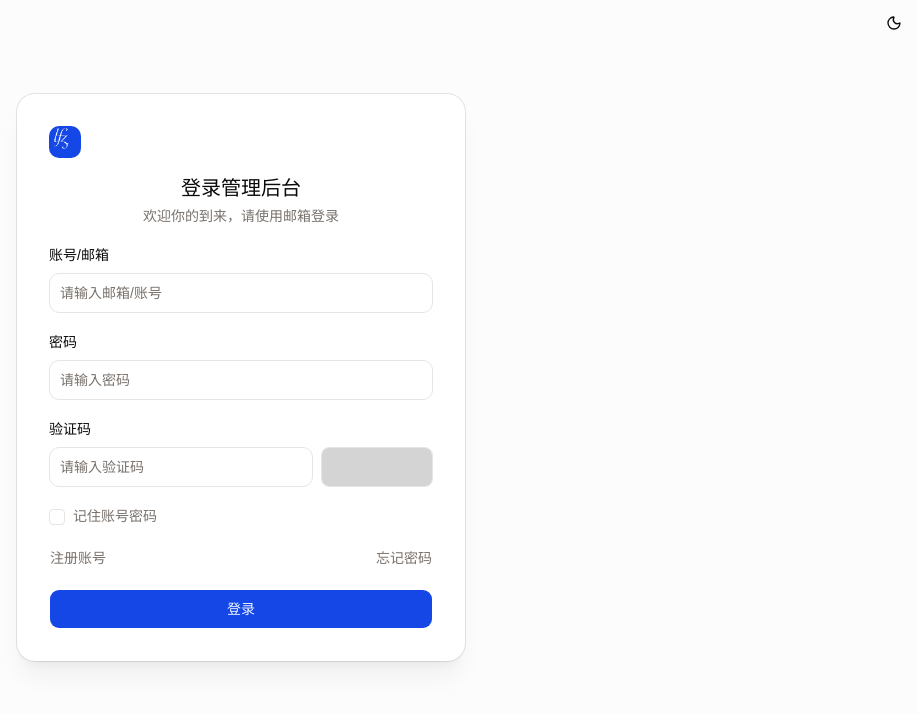
Scenario: LoginFeature › sends reset verification code via real service and starts countdown
Click the button "忘记密码". click: (404, 558)
box: [375,546,433,568]
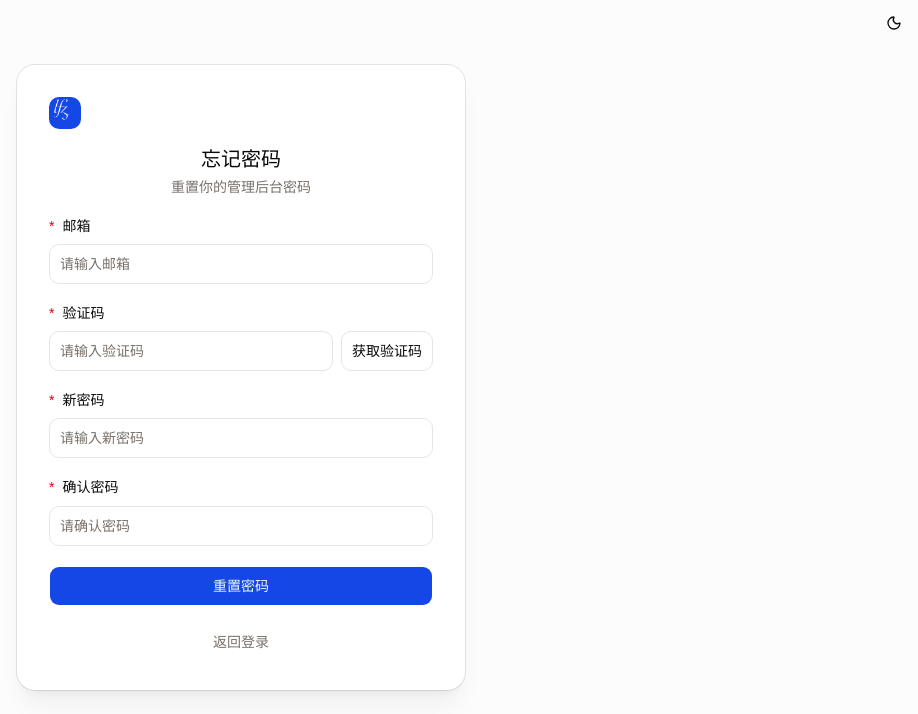
Type "admin@example.com" into the field labelled "* 邮箱". click: (241, 264)
box: [49,244,433,284]
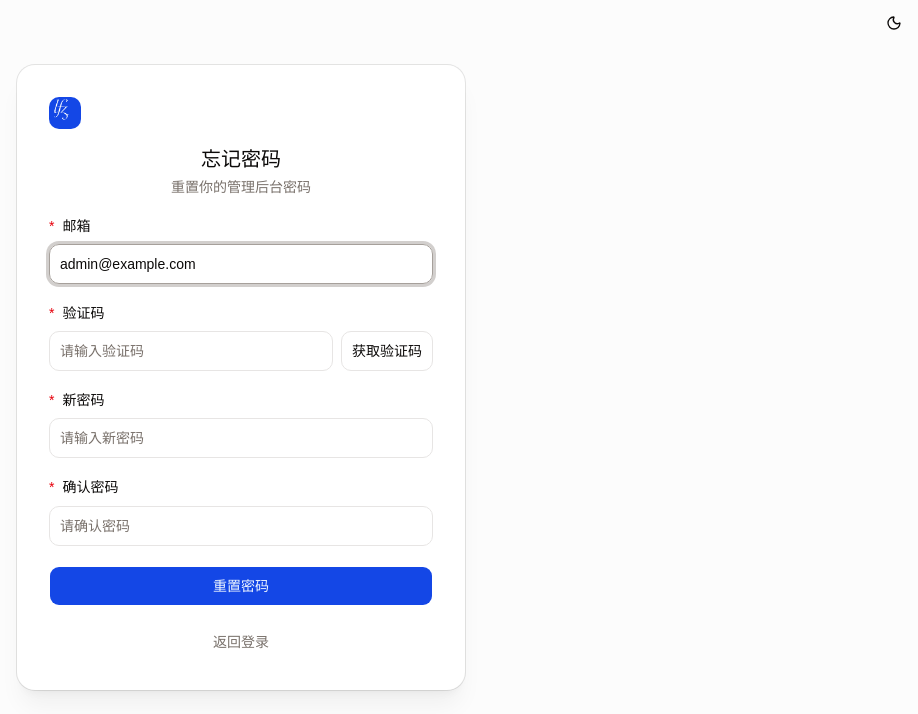
Click the button "获取验证码". click: (387, 351)
box: [341,331,433,371]
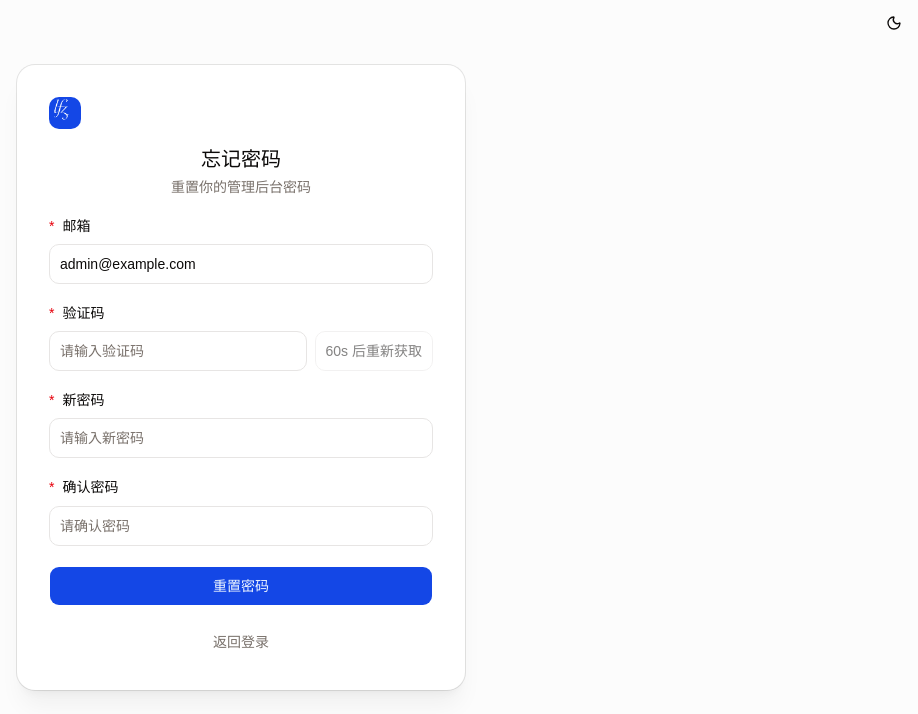
Now the button "60s 后重新获取" is disabled, box [314,331,433,371]
